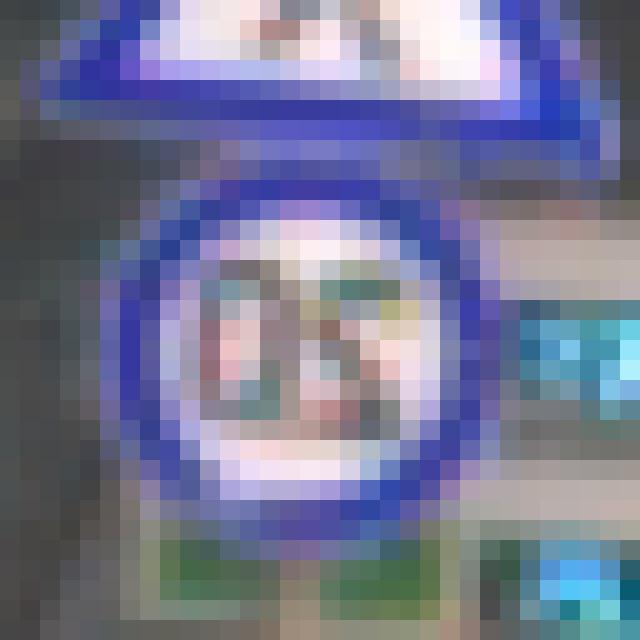SPEED LIMIT 20: (48, 185, 496, 550)
